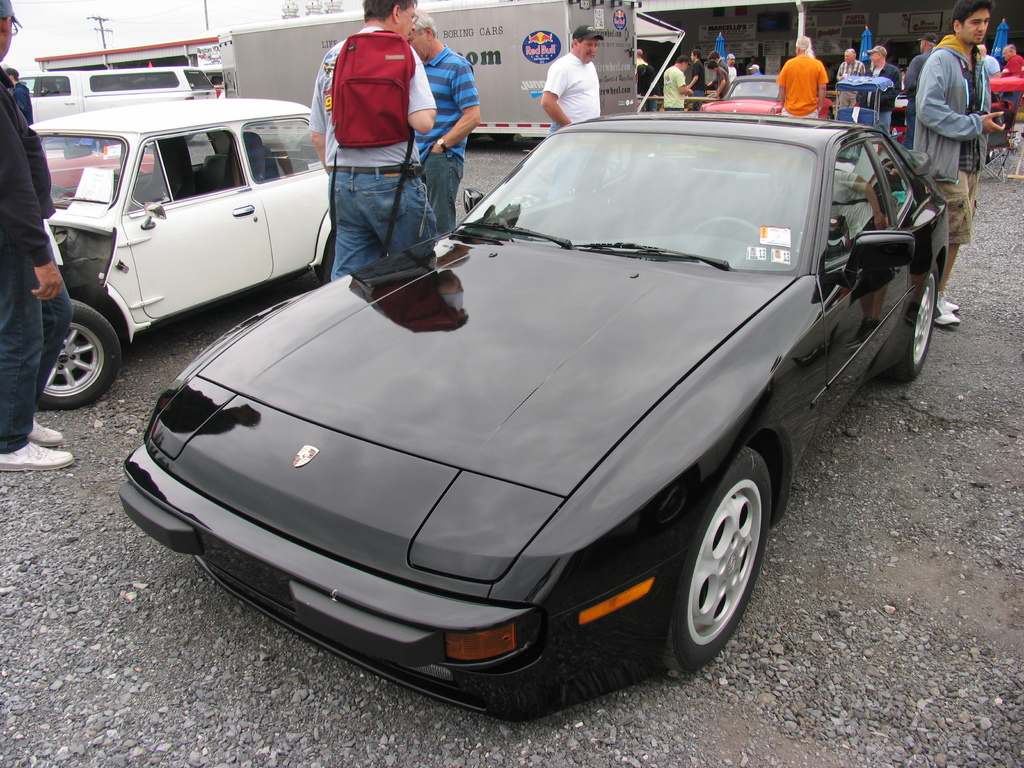Car: (16, 68, 947, 725), (35, 92, 328, 410), (695, 69, 835, 117)
